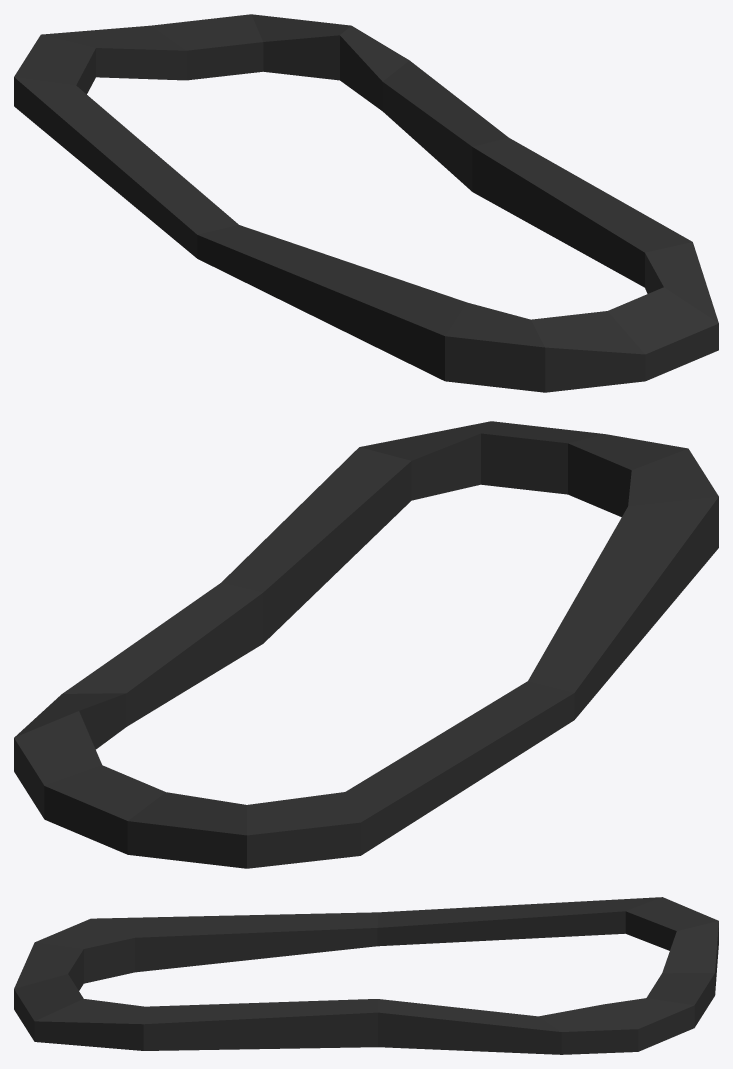
File: Reinforced_Rubber_Belt_0.fbx
3 views of the same model, one above another, from view 1: azimuth 30°, elevation 25°; view 2: azimuth 150°, elevation 25°; view 3: azimuth 270°, elevation 25° (orthographic). The views are drawn at different scales.
Parts seen in each view (by area): view 1: Reinforced_Rubber_Belt_0; view 2: Reinforced_Rubber_Belt_0; view 3: Reinforced_Rubber_Belt_0.
Part boxes in pixels (x1,y1,x2,y2): Reinforced_Rubber_Belt_0: [14, 14, 718, 392]; Reinforced_Rubber_Belt_0: [14, 421, 718, 868]; Reinforced_Rubber_Belt_0: [14, 897, 718, 1054].
Size of the model in its own units: 39.95 by 5.03 by 92.93.
